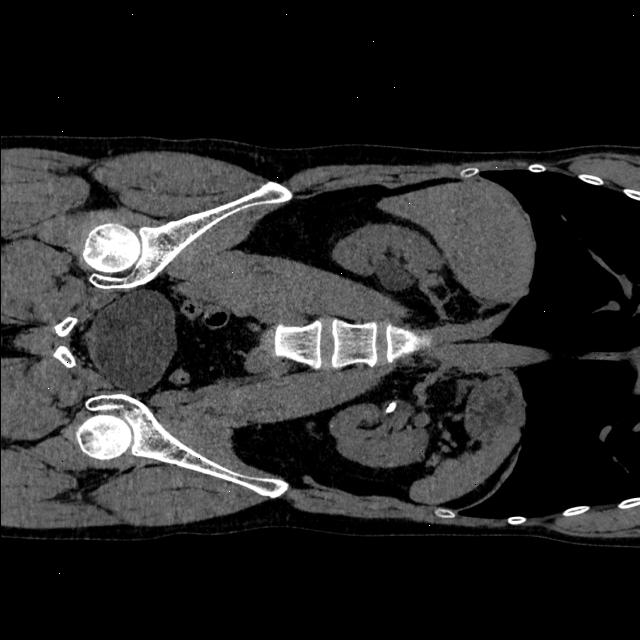kidneystone: (384, 401, 397, 414)
